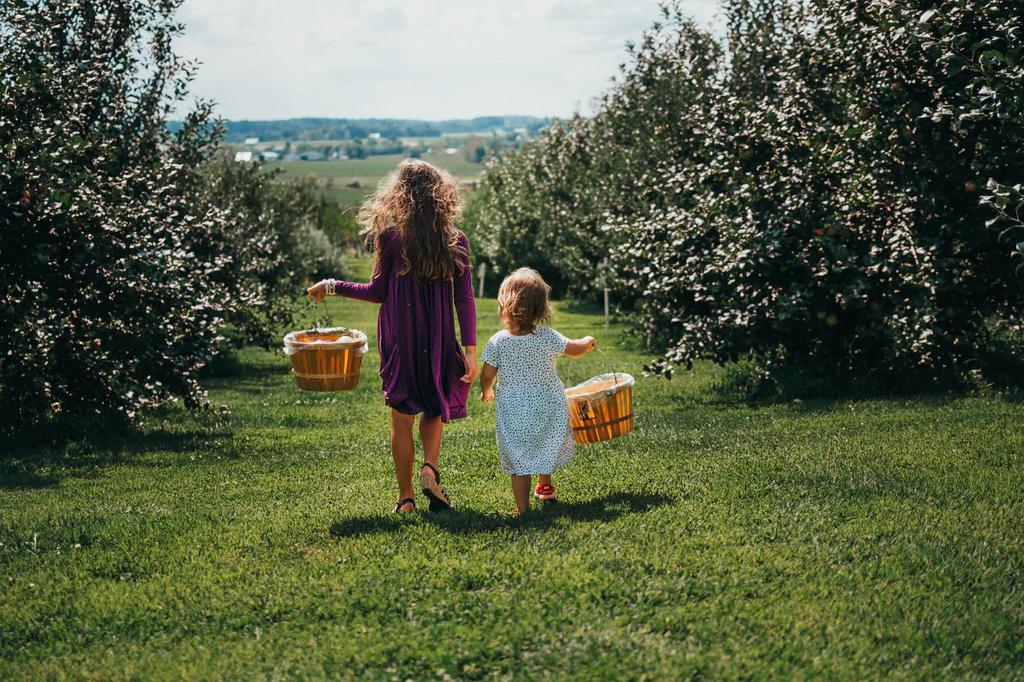child: (468, 266, 603, 525)
